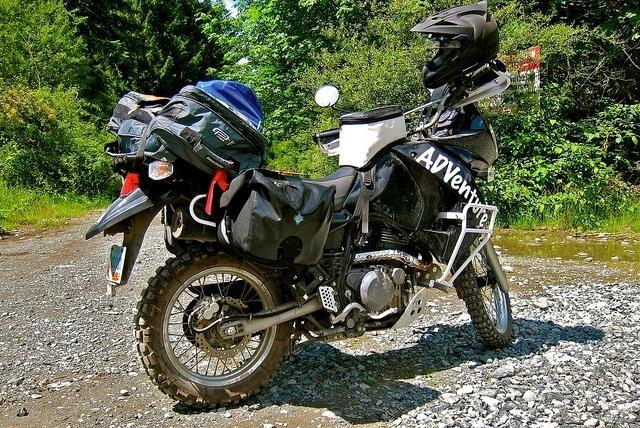motorcycle: (81, 62, 515, 408)
